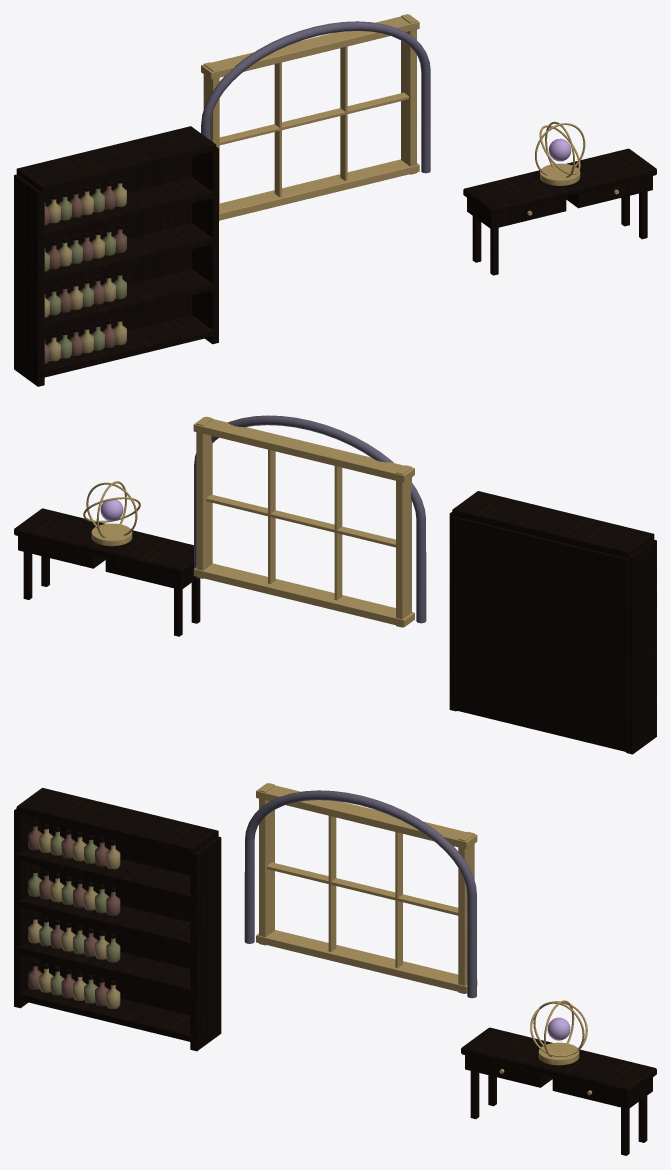
The model's file is north.glb.
3 renders of one model, top to bottom at view 1: azimuth 30°, elevation 25°; view 2: azimuth 150°, elevation 25°; view 3: azimuth 330°, elevation 25°, orthographic.
Visible parts, largest first — view 1: wizards-workshop north; view 2: wizards-workshop north; view 3: wizards-workshop north.
Part boxes in pixels (x1,y1,x2,y2): wizards-workshop north: [14, 14, 656, 386]; wizards-workshop north: [14, 415, 656, 754]; wizards-workshop north: [14, 783, 656, 1155].
Bounding box in the file's own units: 8.1 × 3.28 × 1.13.
7 materials, 1 textured.
